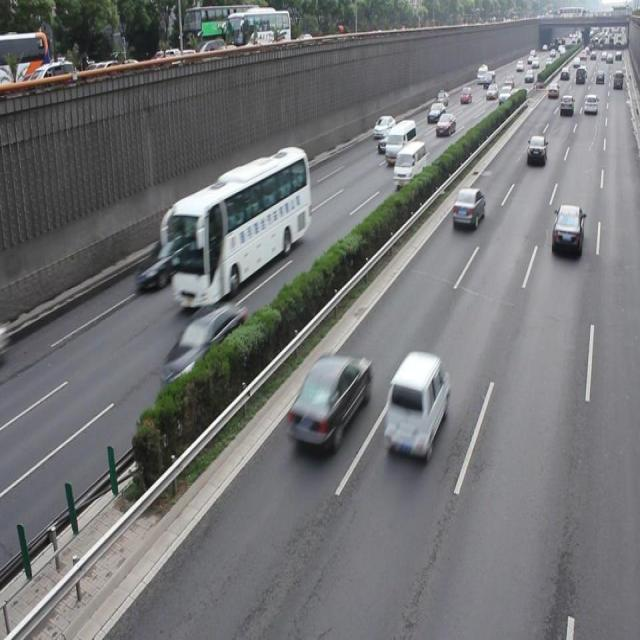car: (284, 354, 370, 452), (381, 350, 449, 462), (160, 306, 245, 390), (136, 233, 194, 288), (550, 202, 582, 255), (450, 186, 484, 229)
truck: (392, 141, 426, 188)
van: (166, 148, 309, 305)
